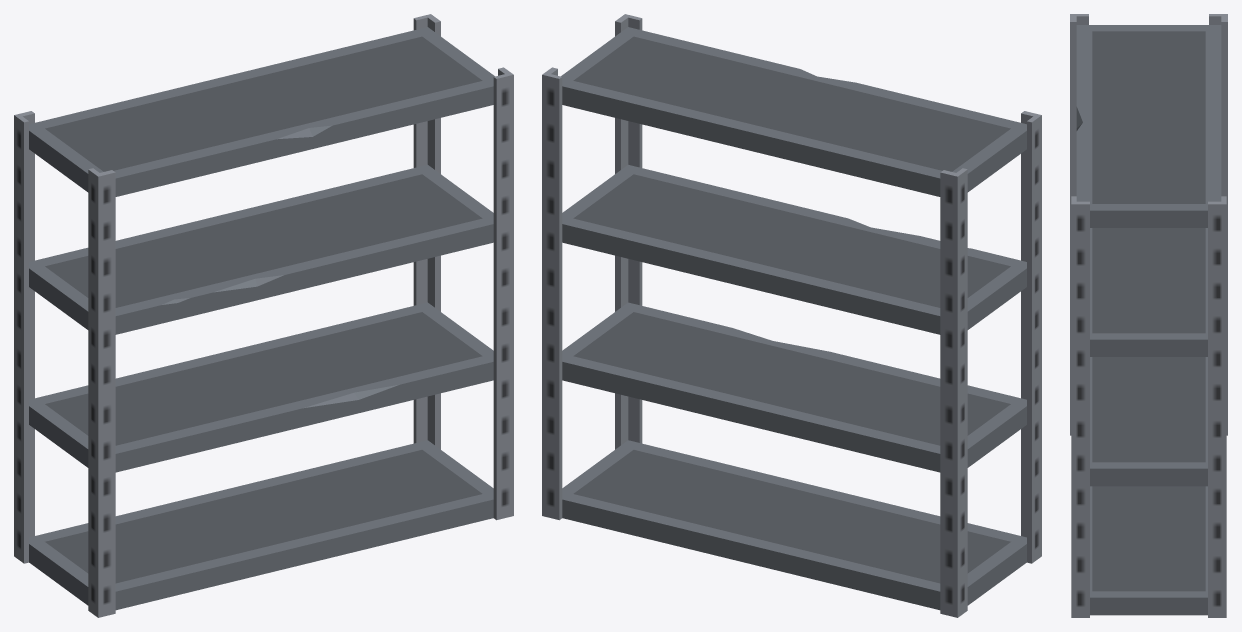
Rendered from SM_Prop_WorkShelf_01.fbx.
The picture shows the model from 3 angles, left to right: view 1: azimuth 30°, elevation 25°; view 2: azimuth 150°, elevation 25°; view 3: azimuth 270°, elevation 25°; orthographic projection. The views are drawn at different scales.
Parts seen in each view (by area): view 1: SM_Prop_WorkShelf_01; view 2: SM_Prop_WorkShelf_01; view 3: SM_Prop_WorkShelf_01.
Boxes of the visible parts, box(x1,y1,x2,y2) form: SM_Prop_WorkShelf_01: box(14, 14, 513, 617); SM_Prop_WorkShelf_01: box(542, 14, 1041, 617); SM_Prop_WorkShelf_01: box(1070, 14, 1227, 617).
Bounding box in the file's own units: 181 × 184 × 63.48.
